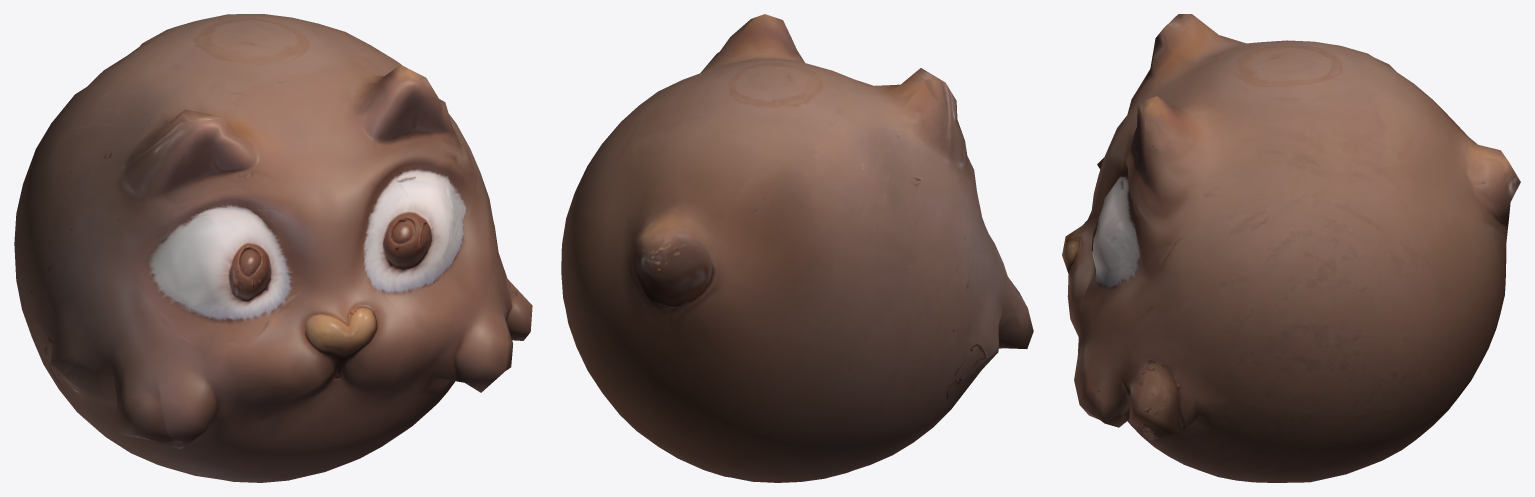
Rendered from CatTruffleMesh.fbx.
3 views of the same model, side by side, from view 1: azimuth 30°, elevation 25°; view 2: azimuth 150°, elevation 25°; view 3: azimuth 270°, elevation 25° (orthographic). The views are drawn at different scales.
Parts seen in each view (by area): view 1: catTruffle; view 2: catTruffle; view 3: catTruffle.
Part boxes in pixels (bbox=[...]): catTruffle: bbox=[14, 14, 532, 482]; catTruffle: bbox=[561, 14, 1033, 482]; catTruffle: bbox=[1062, 14, 1520, 482].
Size of the model in its own units: 119 by 108 by 113.
